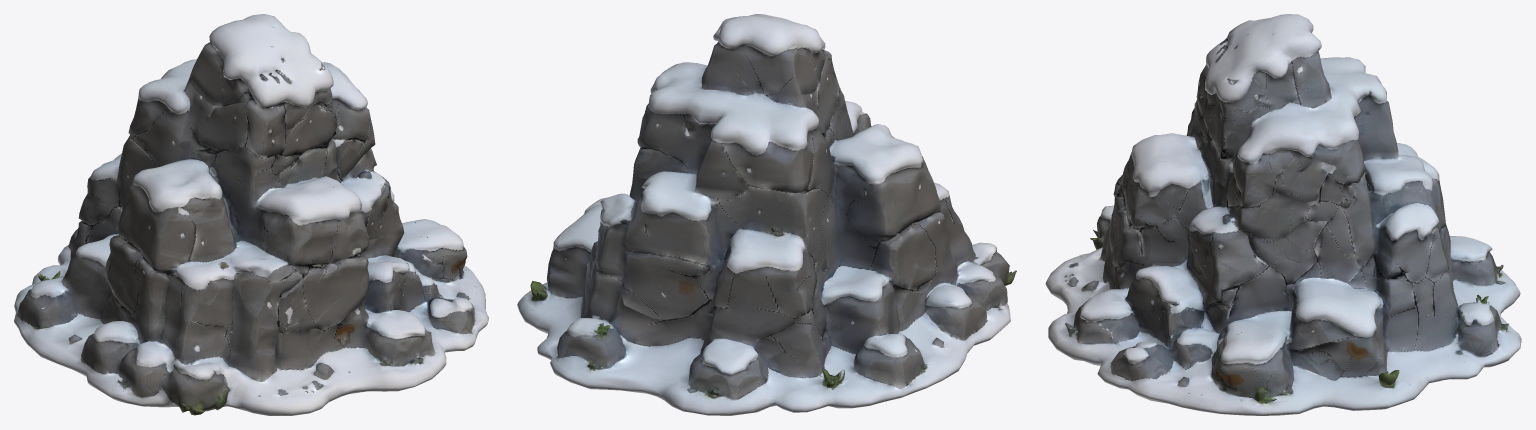
File: shitou-kuangshan2.fbx
3 renders of one model, left to right at view 1: azimuth 30°, elevation 25°; view 2: azimuth 150°, elevation 25°; view 3: azimuth 270°, elevation 25°, orthographic.
Visible parts, largest first — view 1: tripo_node_04af03d9; view 2: tripo_node_04af03d9; view 3: tripo_node_04af03d9.
Boxes of the visible parts, x1,y1,x2,y2 form: tripo_node_04af03d9: [14, 14, 488, 415]; tripo_node_04af03d9: [517, 14, 1016, 415]; tripo_node_04af03d9: [1045, 14, 1521, 415].
Size of the model in its own units: 100 by 99.8 by 69.27.
Materials: 1 (1 with a texture image).
